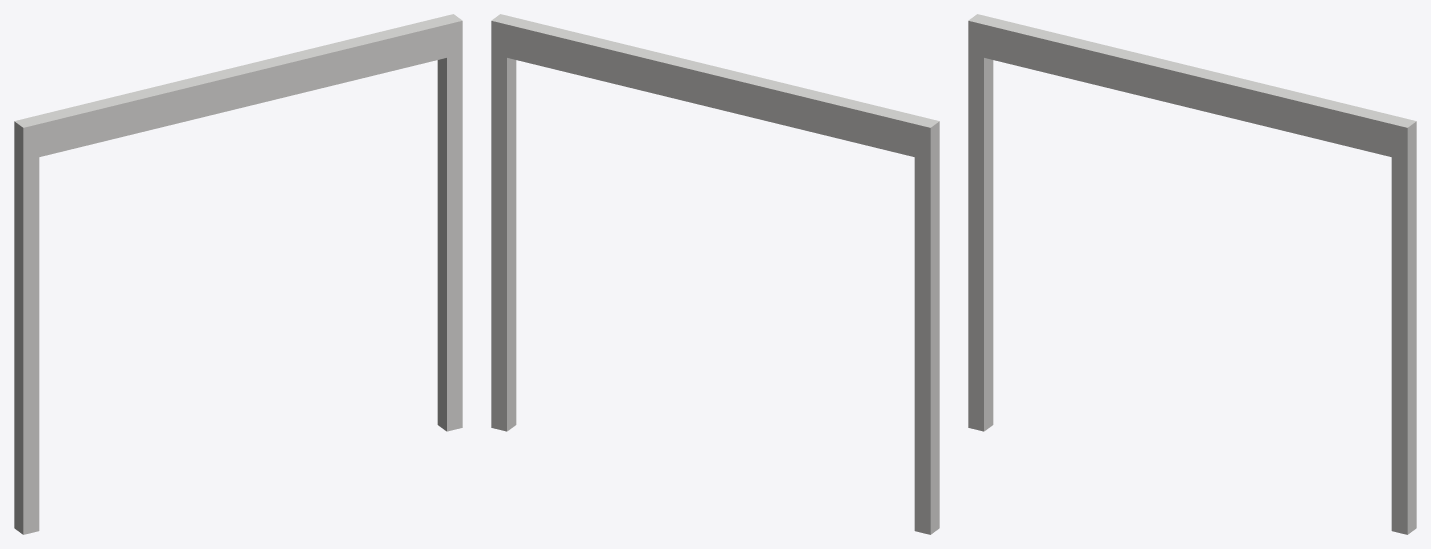
Rendered from hyr-frame_h22-w27_matwhite.fbx.
3 renders of one model, left to right at view 1: azimuth 30°, elevation 25°; view 2: azimuth 150°, elevation 25°; view 3: azimuth 330°, elevation 25°, orthographic.
Parts seen in each view (by area): view 1: hyr-frame_h22-w27_matwhite; view 2: hyr-frame_h22-w27_matwhite; view 3: hyr-frame_h22-w27_matwhite.
Boxes of the visible parts, x1,y1,x2,y2 form: hyr-frame_h22-w27_matwhite: (14,14,462,534); hyr-frame_h22-w27_matwhite: (491,14,939,534); hyr-frame_h22-w27_matwhite: (968,14,1416,534).
Size of the model in its own units: 277 by 245 by 10.
Materials: 1 (1 with a texture image).
